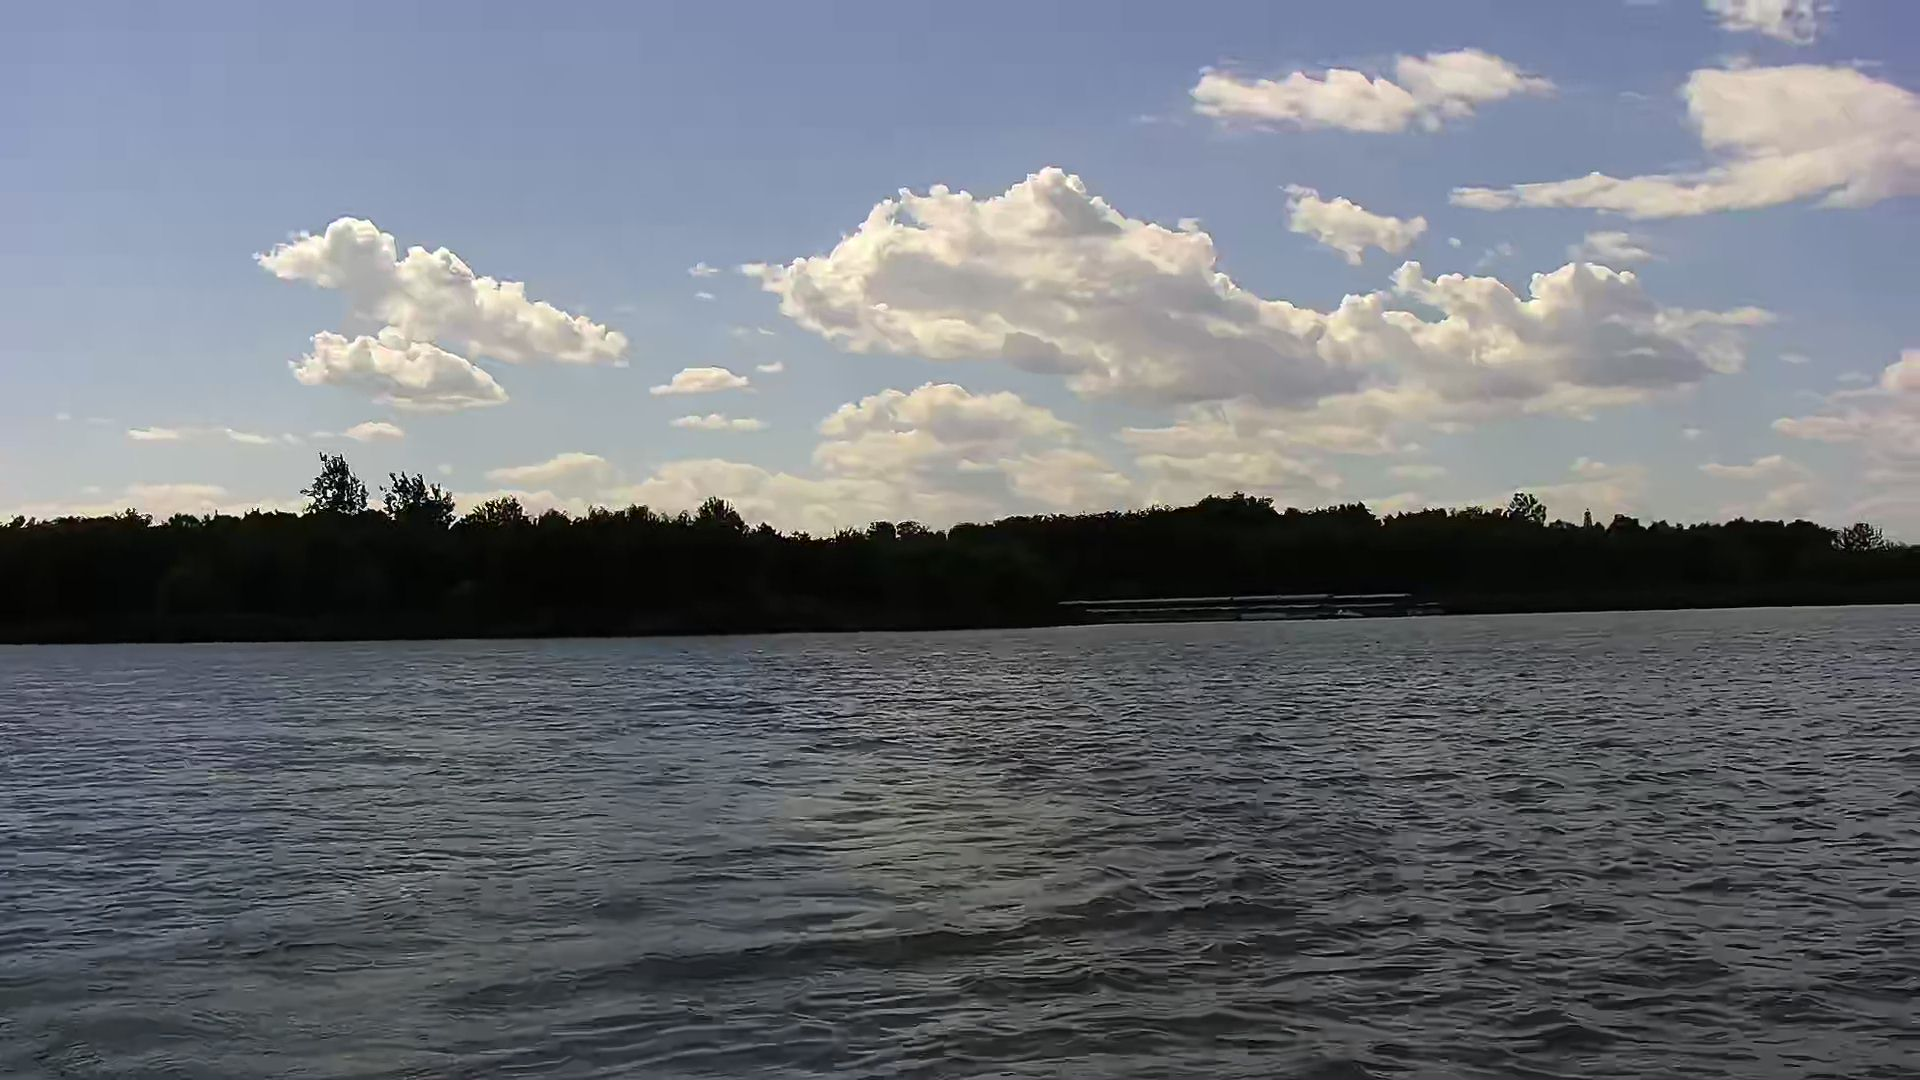bridge: (1067, 593, 1400, 621)
